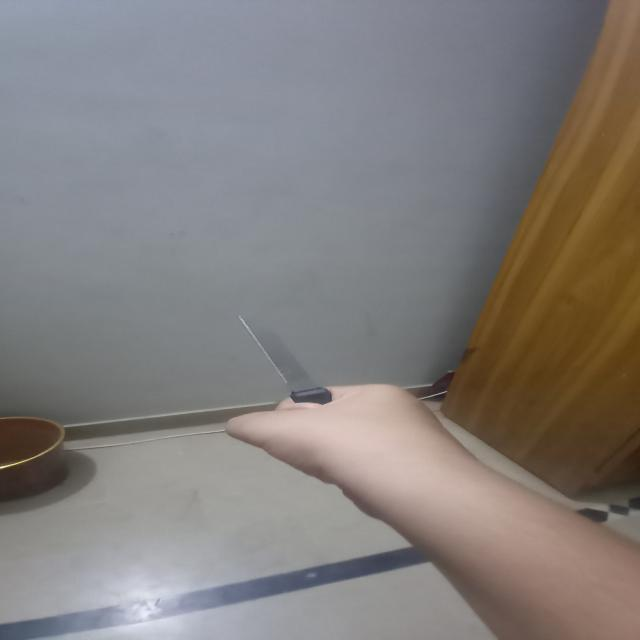Knife: (234, 308, 345, 429)
